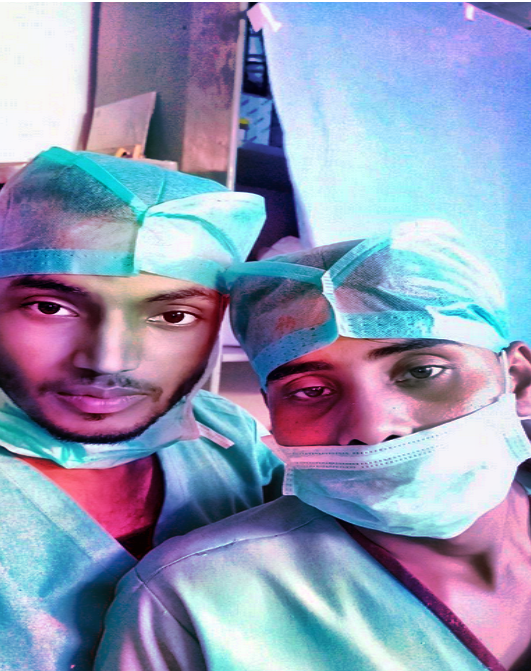mask_weared_incorrect: (225, 216, 526, 543), (1, 151, 259, 449)
